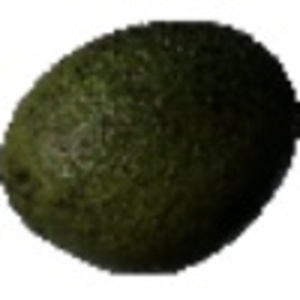abacate: (1, 16, 299, 275)
